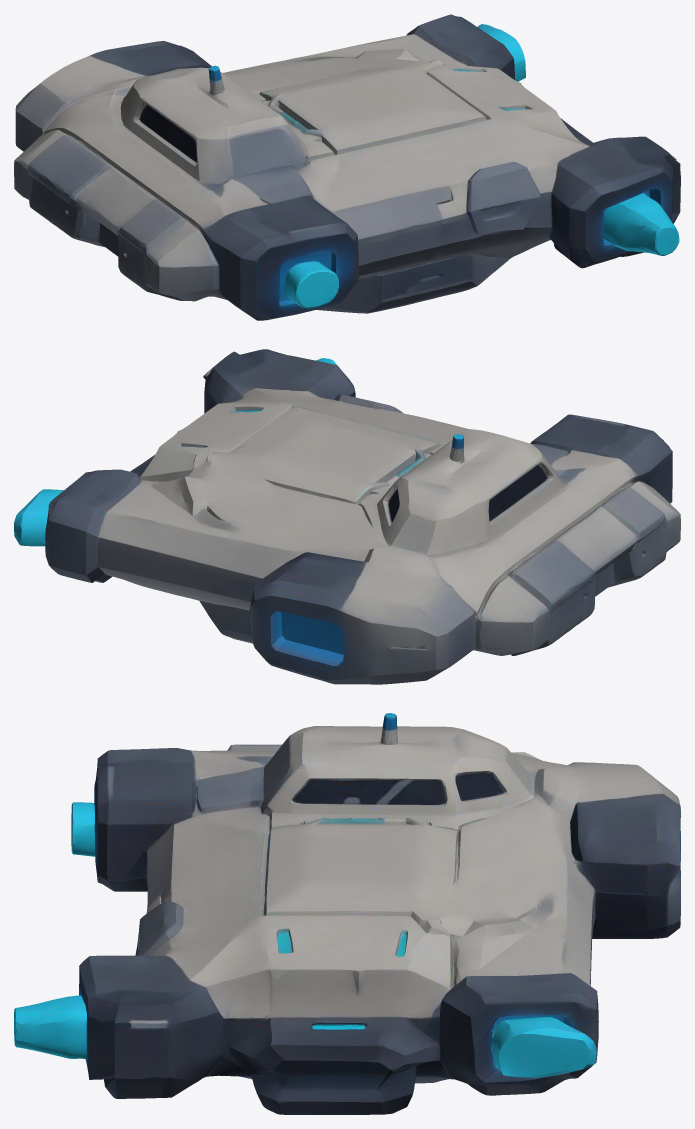
3 views of the same model, one above another, from view 1: azimuth 30°, elevation 25°; view 2: azimuth 150°, elevation 25°; view 3: azimuth 270°, elevation 25° (orthographic). The views are drawn at different scales.
Visible parts, largest first — view 1: Mesh; view 2: Mesh; view 3: Mesh.
Boxes of the visible parts, x1,y1,x2,y2 form: Mesh: (14, 14, 680, 320); Mesh: (14, 349, 680, 684); Mesh: (14, 713, 680, 1114).
Size of the model in its own units: 1.9 by 0.7672 by 1.89.
Materials: 1 (1 with a texture image).
